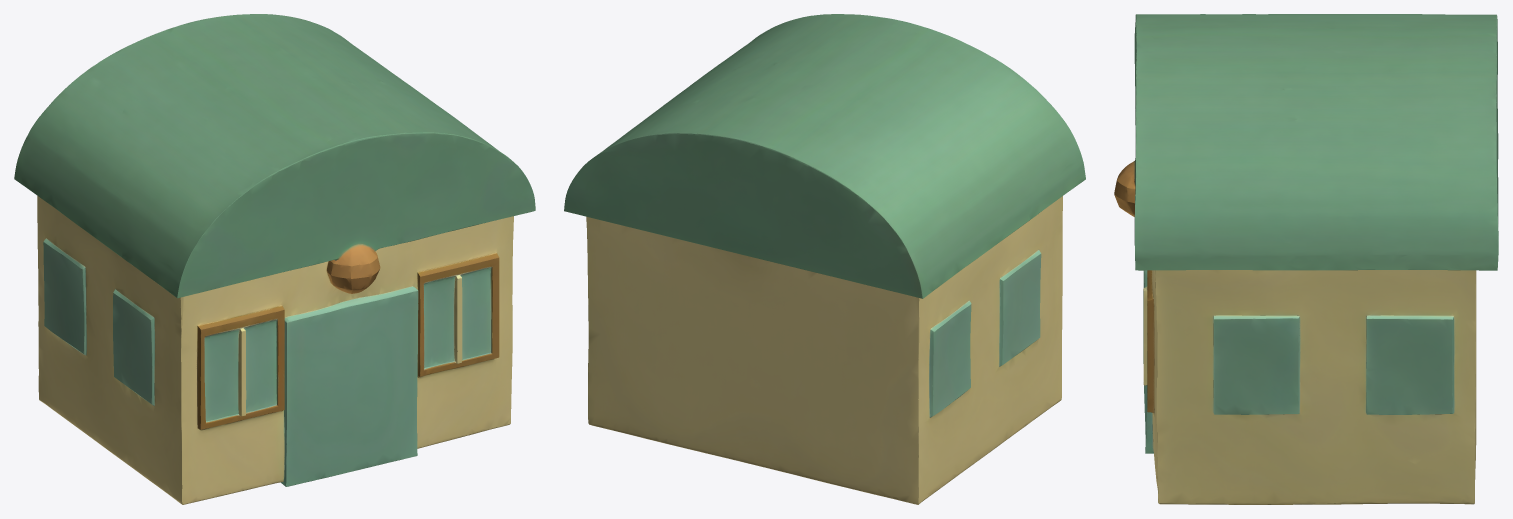
3 views of the same model, side by side, from view 1: azimuth 30°, elevation 25°; view 2: azimuth 150°, elevation 25°; view 3: azimuth 270°, elevation 25° (orthographic). The views are drawn at different scales.
Visible parts, largest first — view 1: model; view 2: model; view 3: model.
Part boxes in pixels (bbox=[...]): model: bbox=[14, 14, 535, 504]; model: bbox=[564, 14, 1085, 504]; model: bbox=[1114, 14, 1498, 504].
Size of the model in its own units: 1.9 by 1.7 by 1.59.
Materials: 1 (1 with a texture image).
